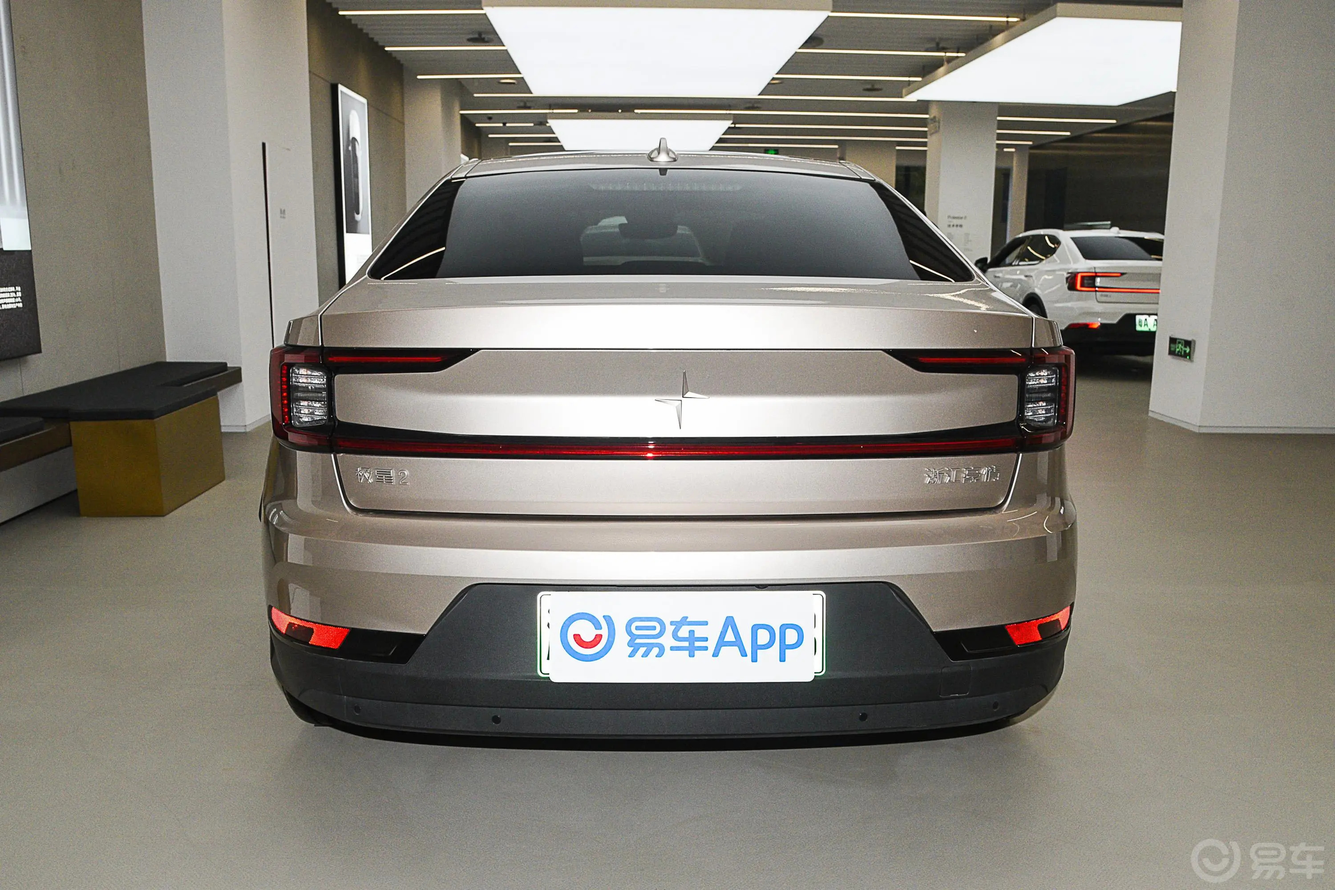Polestar: (655, 371, 709, 429)
